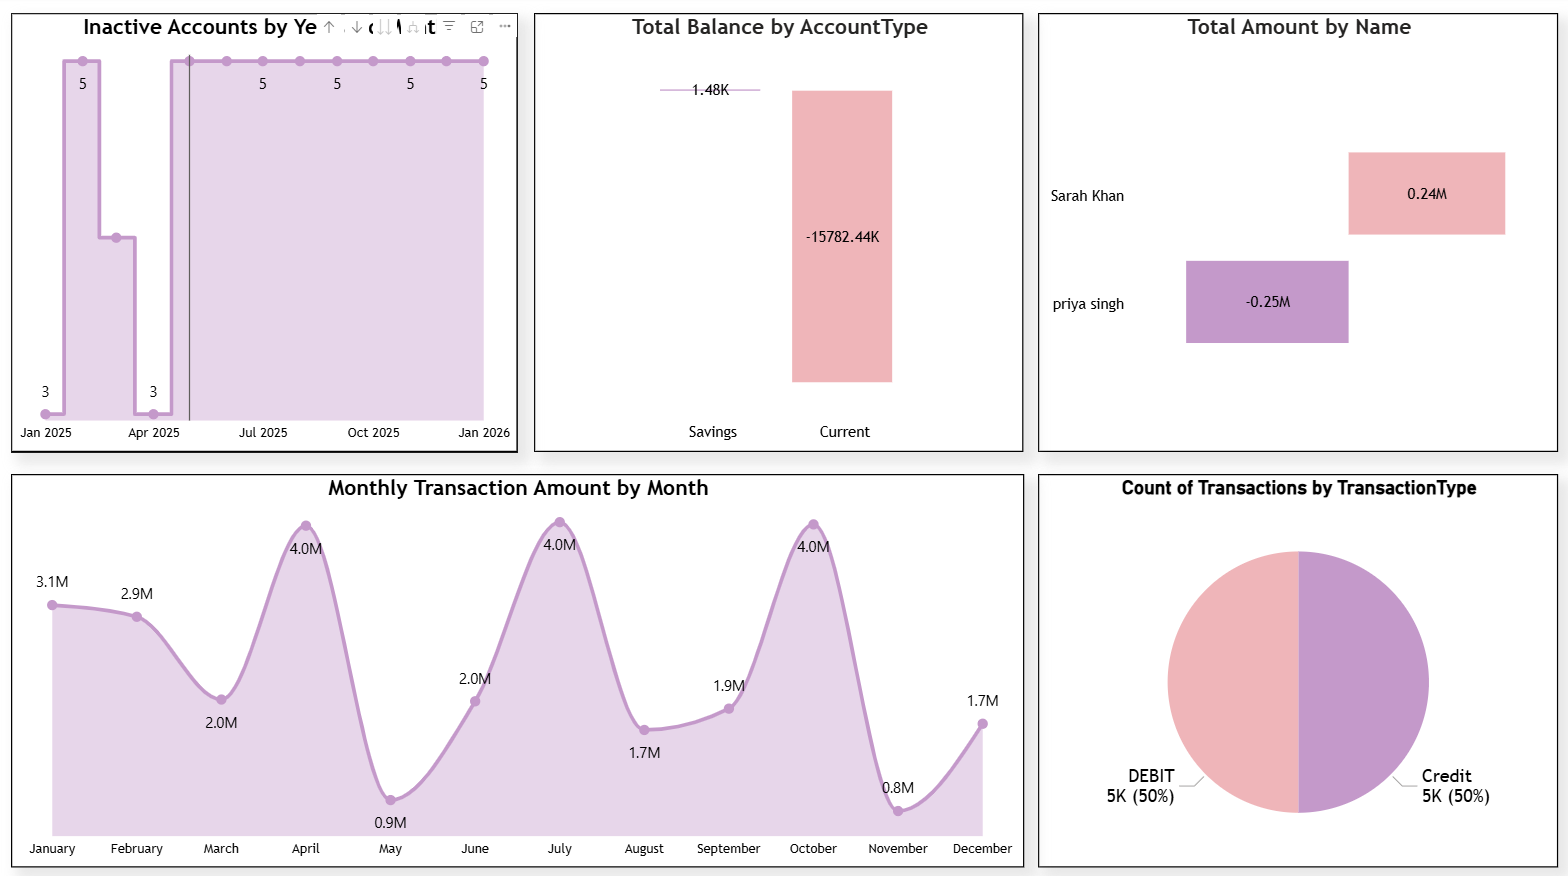

This screenshot's page, from the dashboard's own definition file:
{"tool":"powerbi","page":{"name":"Page 1","canvas":[1280,720],"ordinal":0},"visuals":[{"type":"pieChart","fields":{"Y":["Measures Table.Count of Transactions"],"Category":["CombinedBankingDataset.TransactionType"]},"box":[846.7,388.4,423.3,320.5],"z":0},{"type":"areaChart","fields":{"Category":["CombinedBankingDataset.TransactionDate.Variation.Date Hierarchy.Month"],"Y":["Measures Table.Monthly Transaction Amount"]},"box":[11,388.4,823.7,320.5],"z":1},{"type":"barChart","title":"Total Amount by Name","fields":{"Y":["Sum(CombinedBankingDataset.Amount)"],"Category":["CombinedBankingDataset.Name"]},"box":[846.7,14,423.3,357.4],"z":2},{"type":"clusteredColumnChart","fields":{"Y":["Measures Table.Total Balance"],"Category":["CombinedBankingDataset.AccountType"]},"box":[436.3,14,398.4,357.4],"z":3},{"type":"lineChart","fields":{"Y":["Measures Table.Inactive Accounts"],"Category":["CombinedBankingDataset.TransactionDate.Variation.Date Hierarchy.Year","CombinedBankingDataset.TransactionDate.Variation.Date Hierarchy.Month"]},"box":[11,14,412.4,357.4],"z":4}]}

Visuals, with their boxes in screenshot pixels (x1, y1, x2, y2), scaled from the page's 1280x720 canvas onto the 1568x876 screenshot:
pieChart - Measures Table.Count of Transactions x CombinedBankingDataset.TransactionType: x1=1037, y1=473, x2=1556, y2=862
areaChart - CombinedBankingDataset.TransactionDate.Variation.Date Hierarchy.Month x Measures Table.Monthly Transaction Amount: x1=13, y1=473, x2=1023, y2=862
"Total Amount by Name" barChart: x1=1037, y1=17, x2=1556, y2=452
clusteredColumnChart - Measures Table.Total Balance x CombinedBankingDataset.AccountType: x1=534, y1=17, x2=1023, y2=452
lineChart - Measures Table.Inactive Accounts x CombinedBankingDataset.TransactionDate.Variation.Date Hierarchy.Year: x1=13, y1=17, x2=519, y2=452
